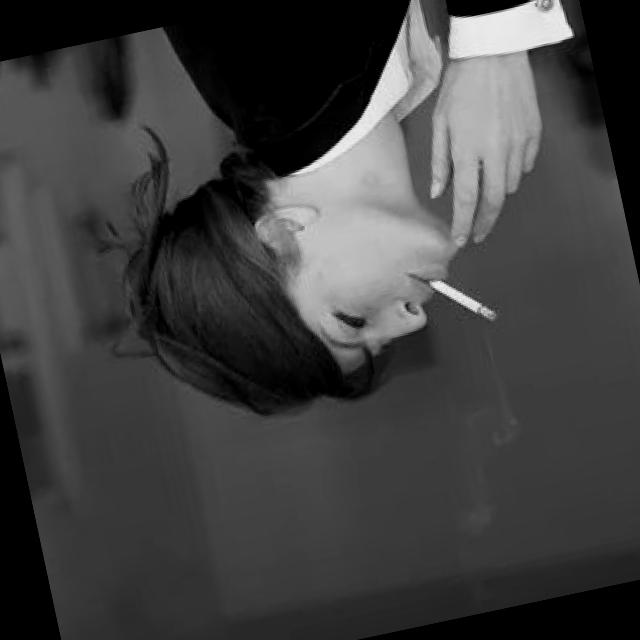smoke: (420, 258, 508, 337)
